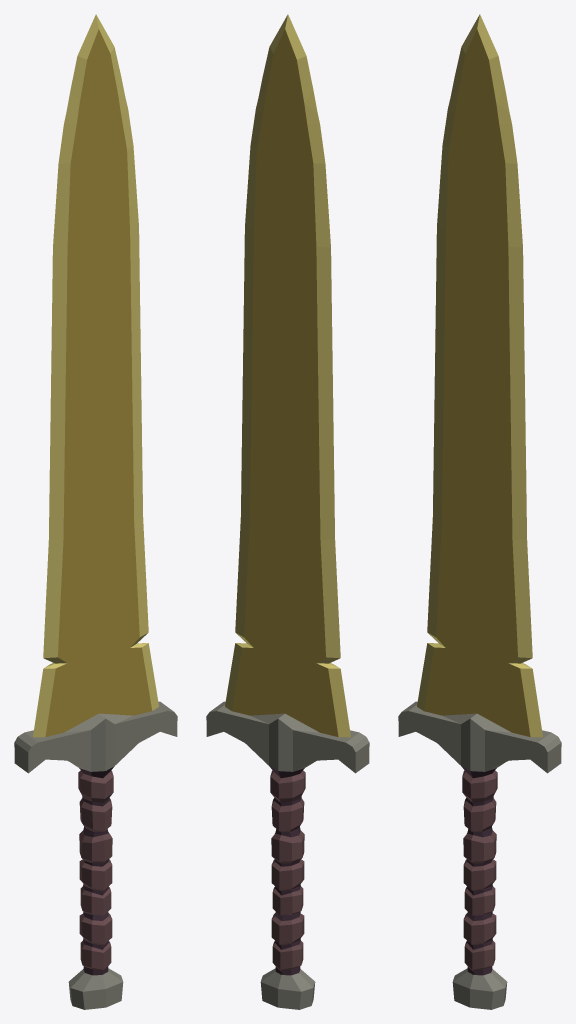
File: Sword_big_Golden.glb
3 views of the same model, side by side, from view 1: azimuth 30°, elevation 25°; view 2: azimuth 150°, elevation 25°; view 3: azimuth 330°, elevation 25° (orthographic).
Visible parts, largest first — view 1: Sword_big_Golden_Cylinder.042; view 2: Sword_big_Golden_Cylinder.042; view 3: Sword_big_Golden_Cylinder.042.
Part boxes in pixels (bbox=[...]): Sword_big_Golden_Cylinder.042: bbox=[14, 14, 177, 1009]; Sword_big_Golden_Cylinder.042: bbox=[206, 14, 369, 1009]; Sword_big_Golden_Cylinder.042: bbox=[398, 14, 561, 1009].
Bounding box in the file's own units: 0.4331 × 2.73 × 0.1013.
